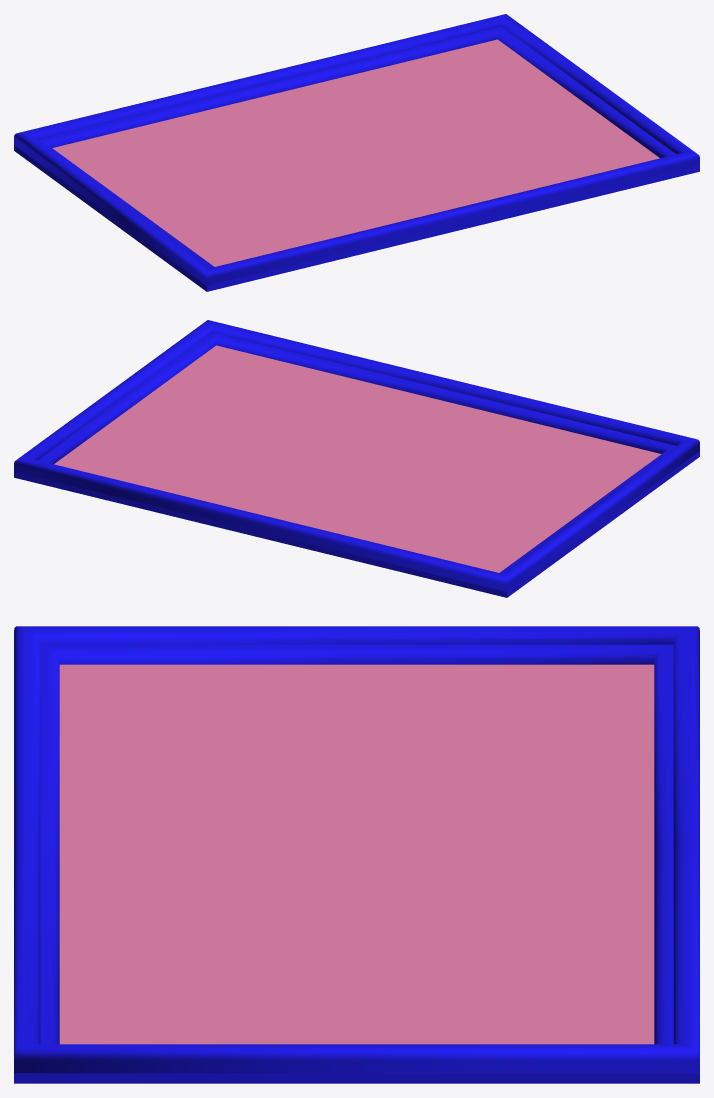
The model's file is Cadre.fbx.
The picture shows the model from 3 angles, top to bottom: view 1: azimuth 30°, elevation 25°; view 2: azimuth 150°, elevation 25°; view 3: azimuth 270°, elevation 25°; orthographic projection. The views are drawn at different scales.
Parts seen in each view (by area): view 1: Cadre1; view 2: Cadre1; view 3: Cadre1.
Boxes of the visible parts, x1,y1,x2,y2 form: Cadre1: [14, 14, 699, 291]; Cadre1: [14, 320, 699, 597]; Cadre1: [14, 626, 699, 1083].
Size of the model in its own units: 168 by 5.98 by 114.
